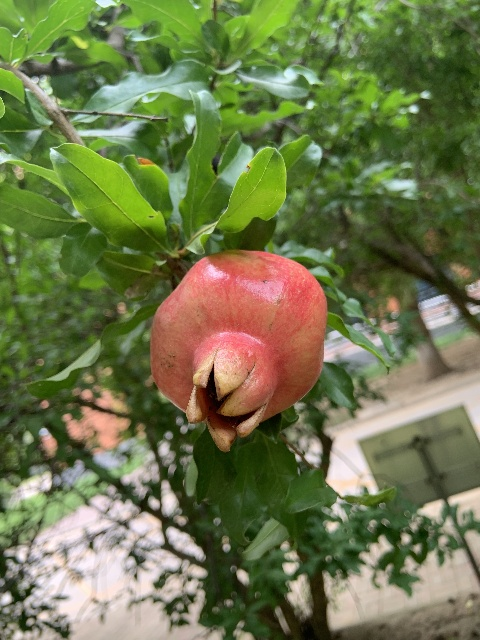ripe: (148, 249, 326, 452)
